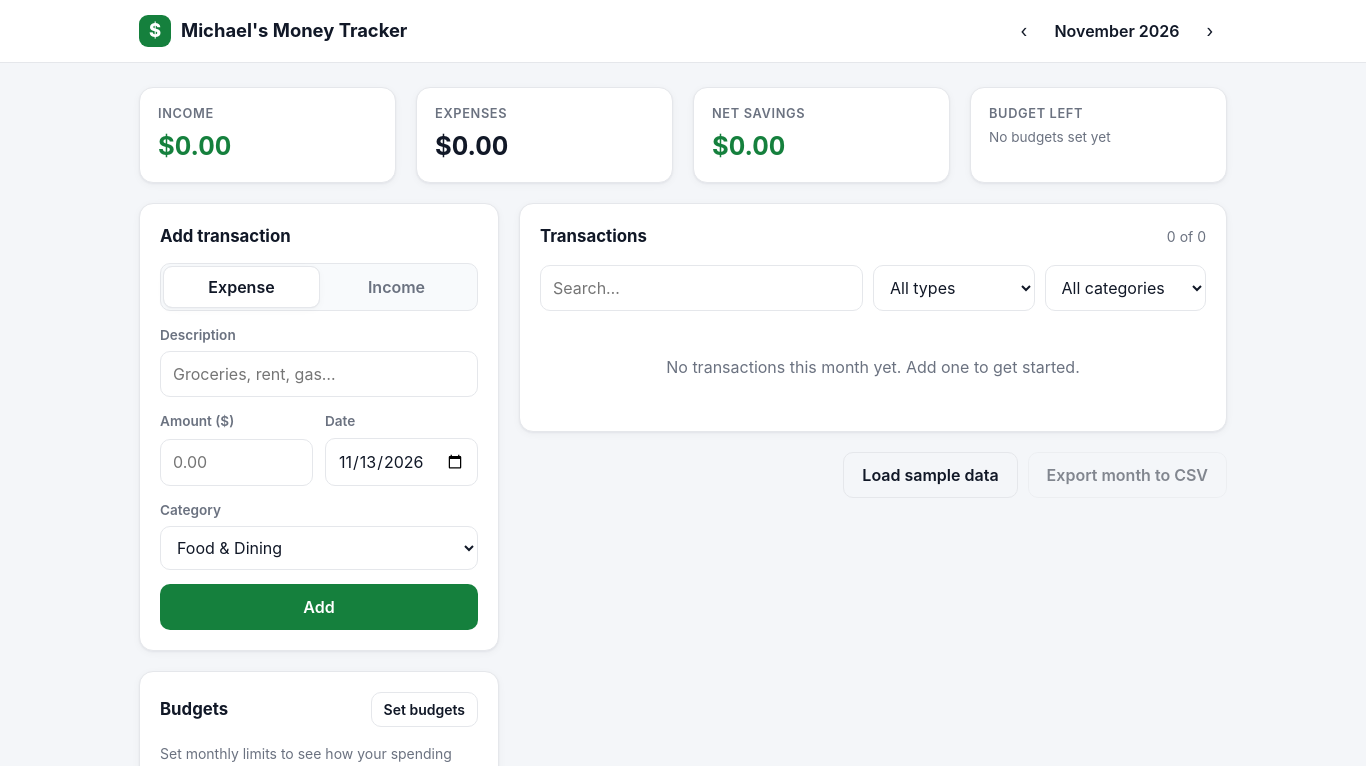
Test: editing a transaction changes its amount
The width and height of the screenshot is (1366, 766).
Step 1. Click the button "Expense" → (242, 287), box [164,267,319,307]
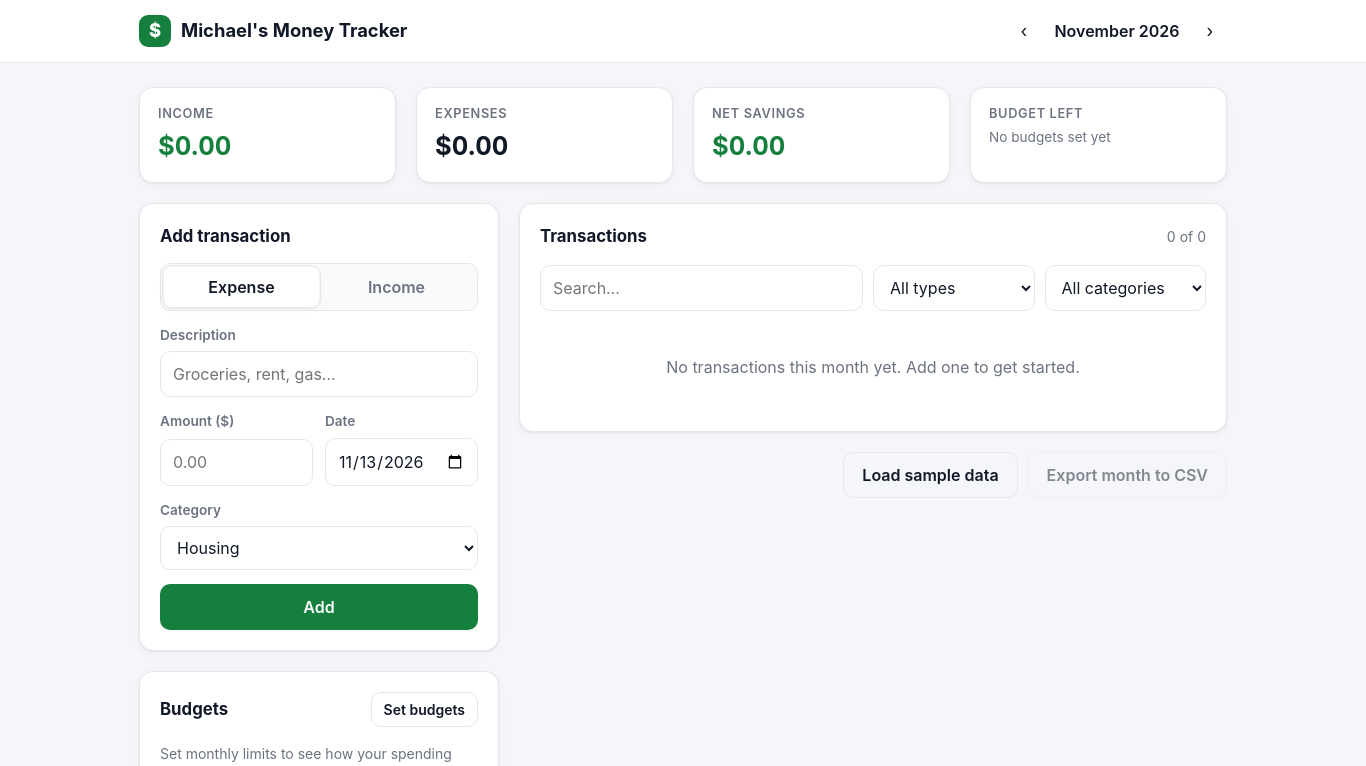
Step 2. Type "Gas" into the field labelled "Description" → (319, 374), box [160,351,478,397]
Step 3. Type "40" into the number field labelled "Amount ($)" → (236, 462), box [160,438,313,486]
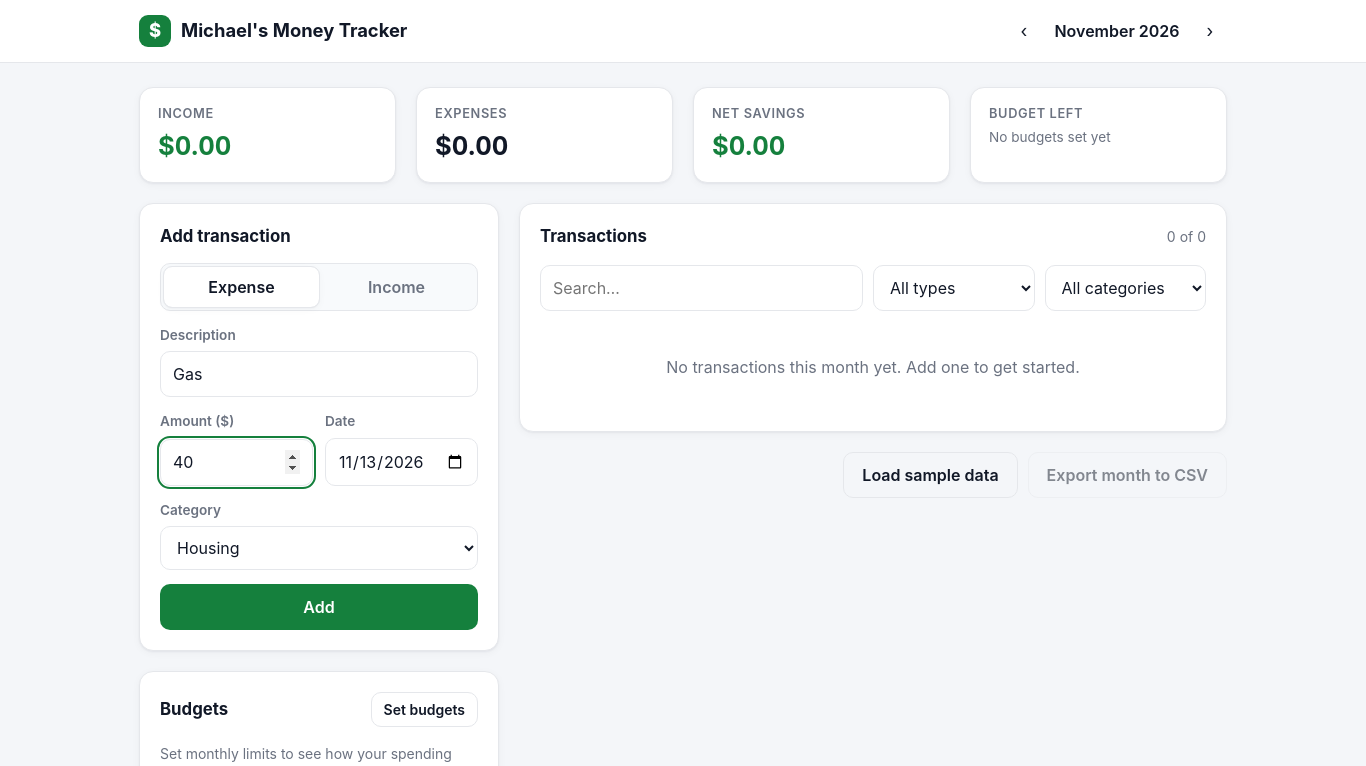
Step 4. Click the button "Add" → (319, 607), box [160,584,478,630]
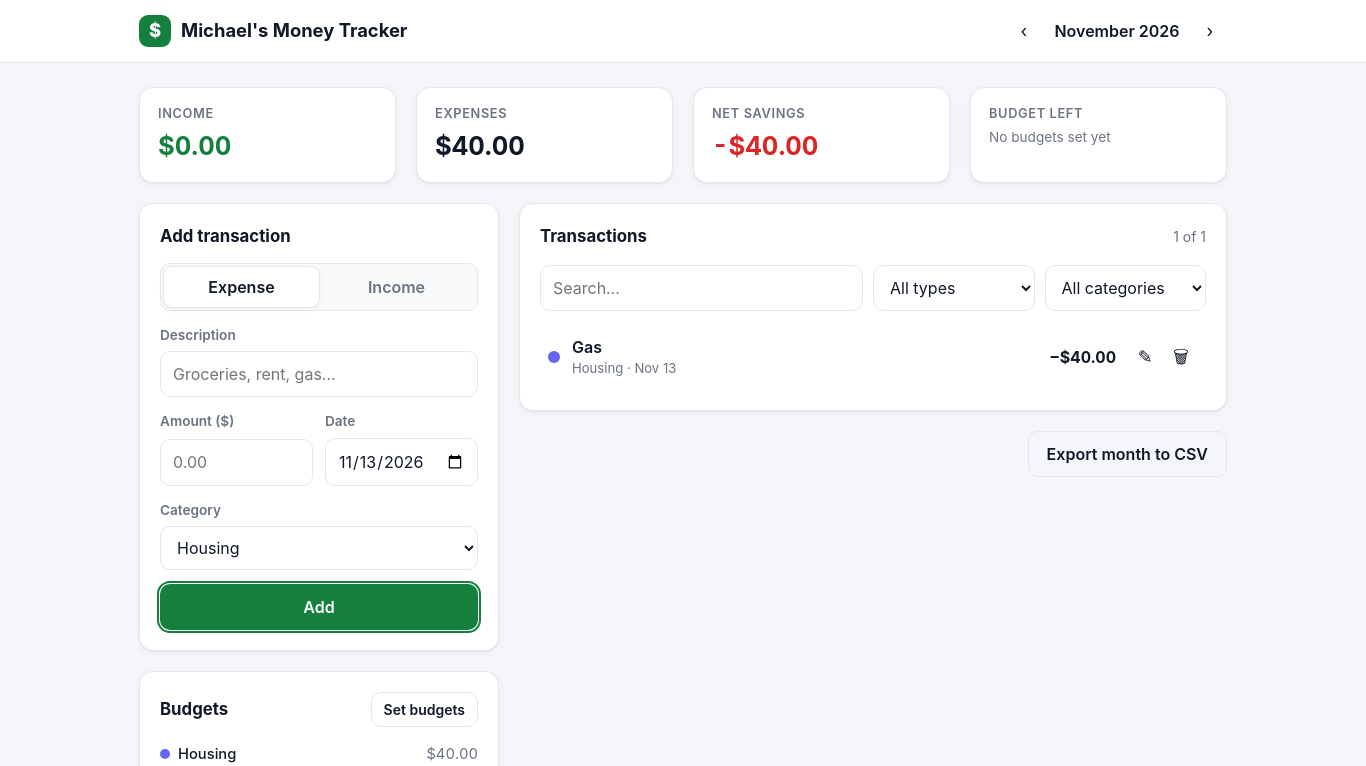
Step 5. Click the button named "Edit Gas" → (1145, 357), box [1128,340,1162,374]
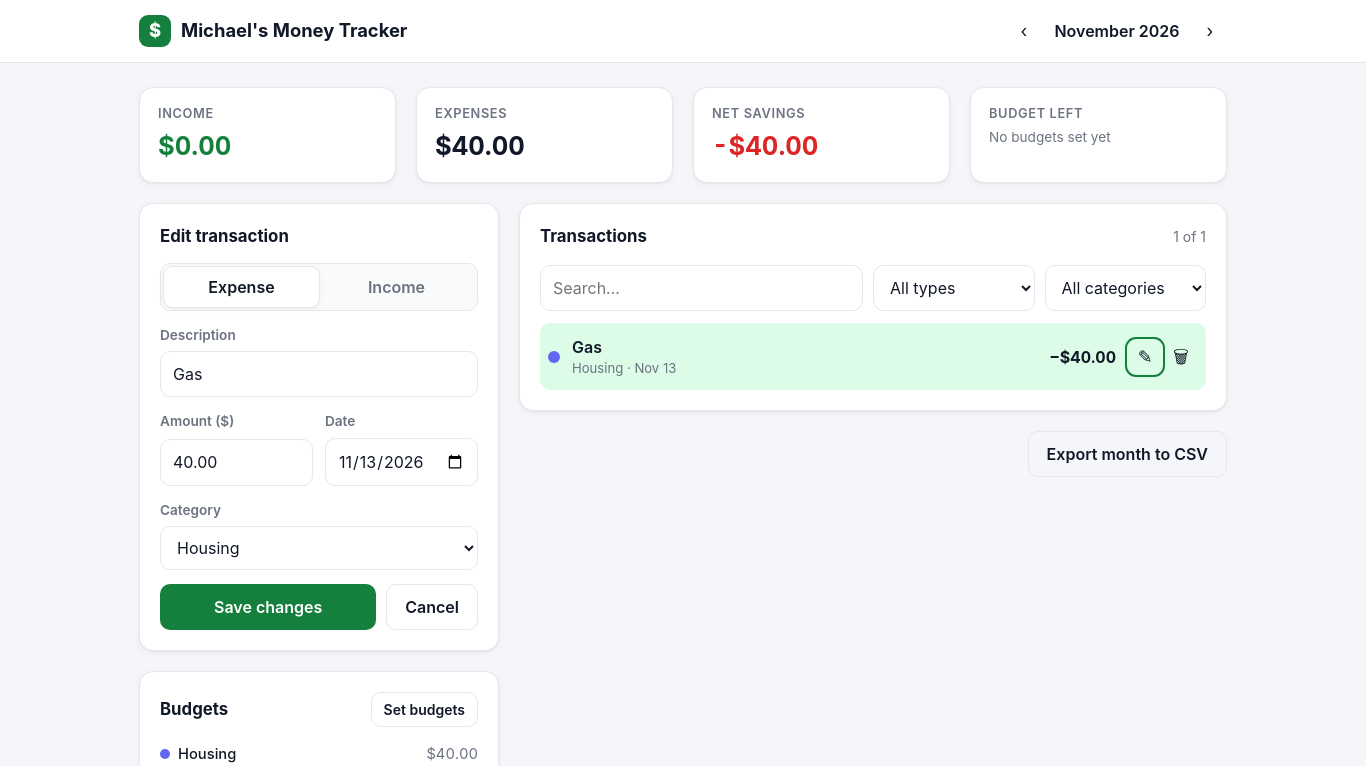
Step 6. Replace the text in the number field labelled "Amount ($)" with "55.50" → (236, 462), box [160,438,313,486]
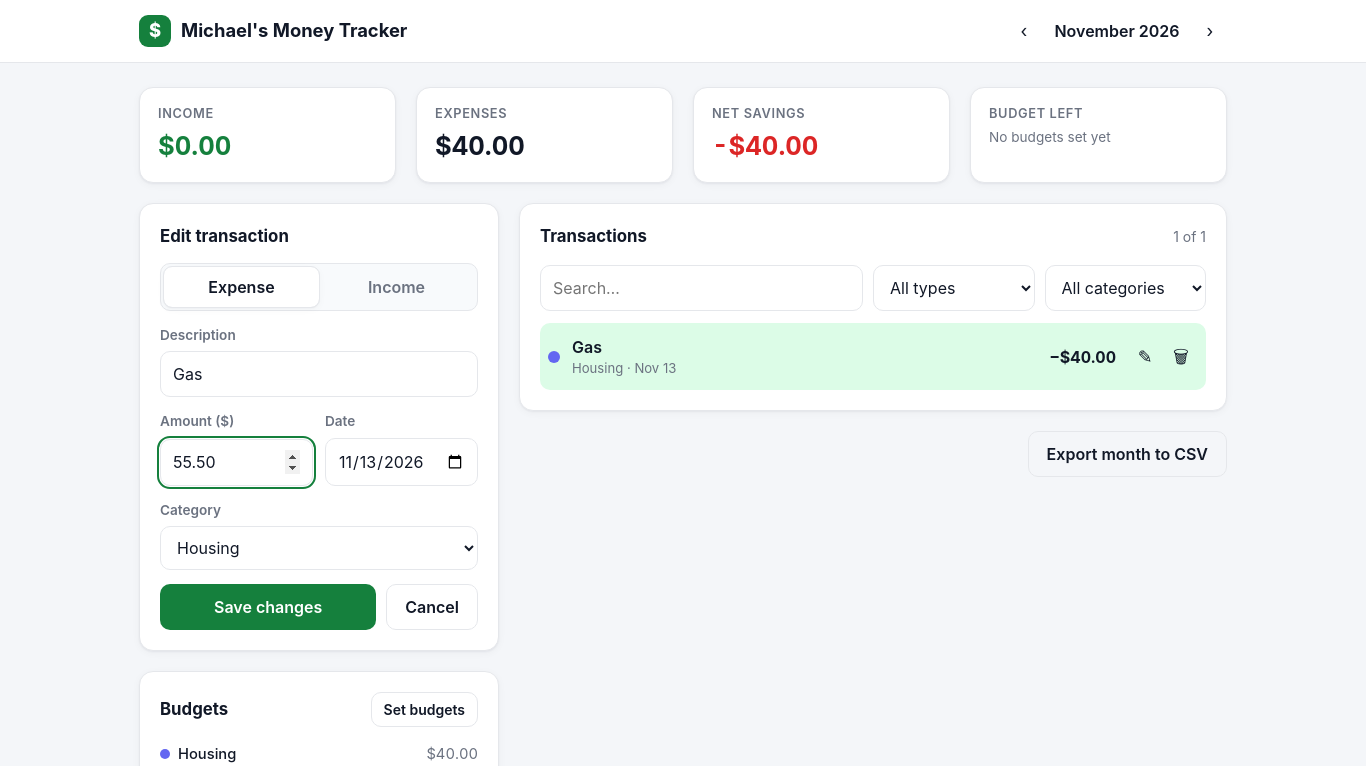
Step 7. Click the button "Save changes" → (268, 607), box [160,584,376,630]
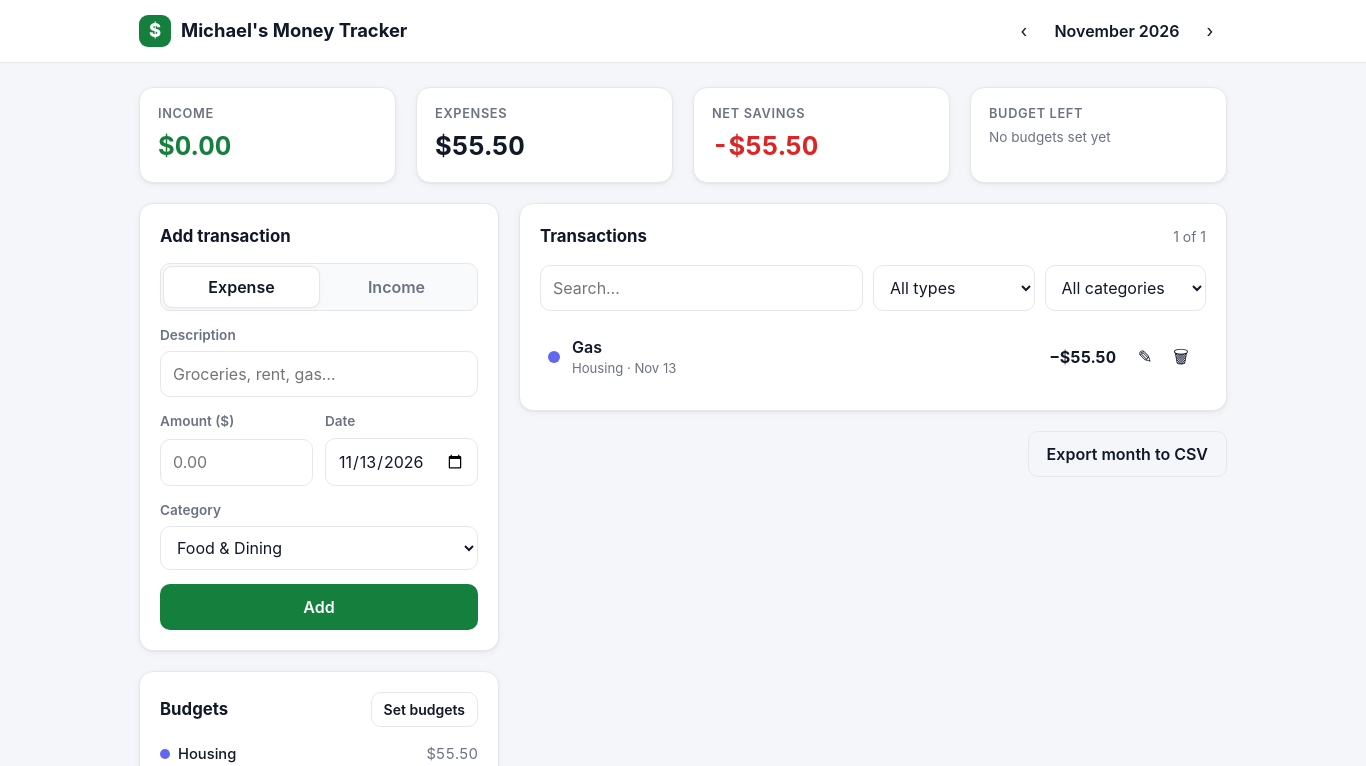
Check: the text with test id "expense-total" reads "$55.50", box [435,130,525,161]
